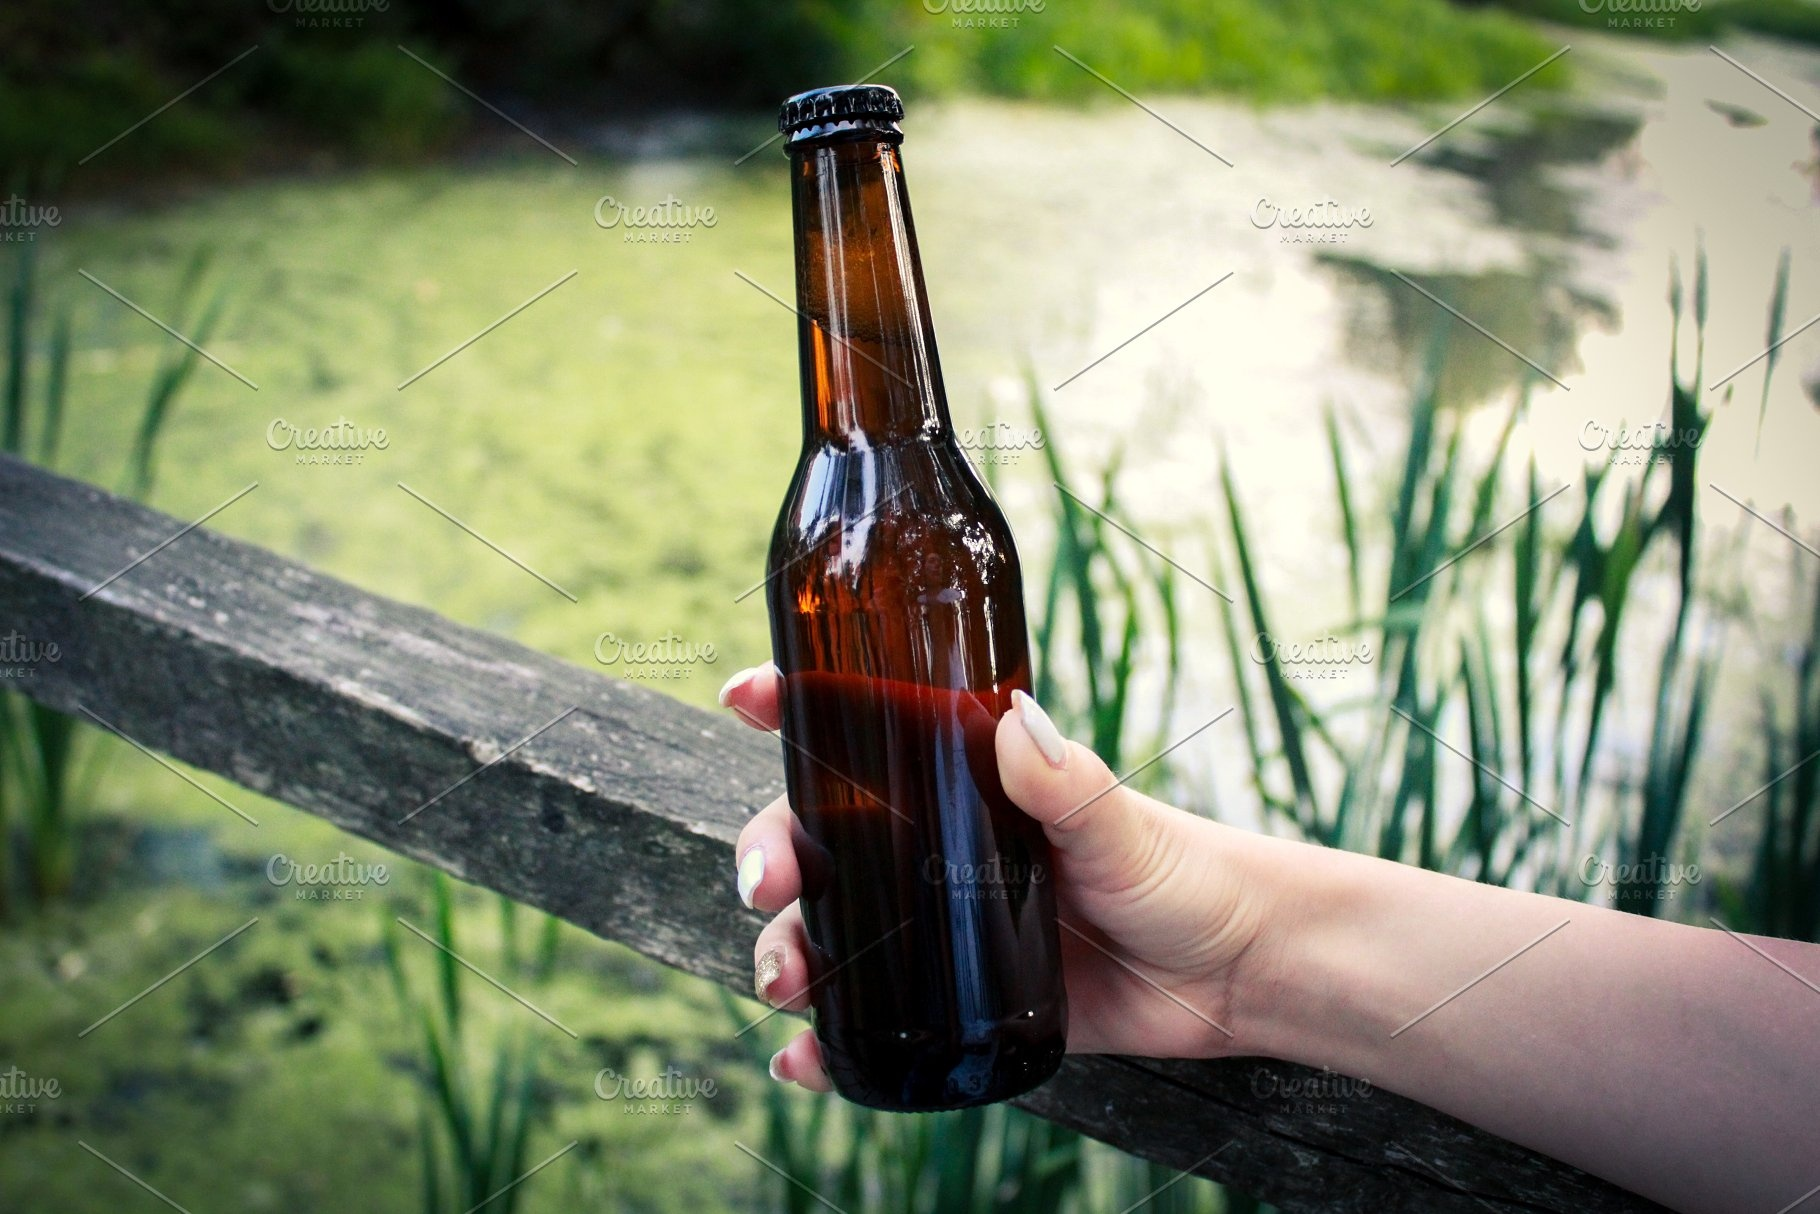beerBottle: (765, 83, 1067, 1100)
